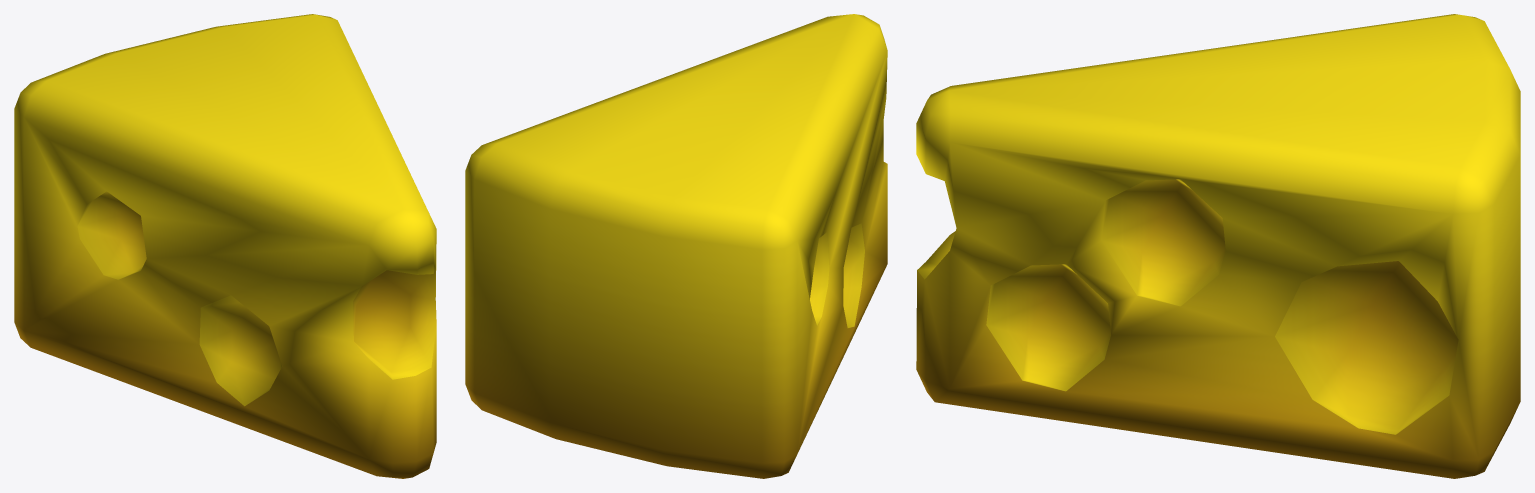
The model's file is cheese.glb.
3 renders of one model, left to right at view 1: azimuth 30°, elevation 25°; view 2: azimuth 150°, elevation 25°; view 3: azimuth 270°, elevation 25°, orthographic. The views are drawn at different scales.
Visible parts, largest first — view 1: Cube; view 2: Cube; view 3: Cube.
Part boxes in pixels (bbox=[...]): Cube: bbox=[14, 14, 436, 478]; Cube: bbox=[465, 14, 887, 478]; Cube: bbox=[916, 14, 1520, 478].
Size of the model in its own units: 1.14 by 0.9109 by 1.6.
1 material, 1 textured.
